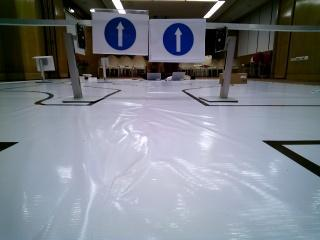straight: (93, 8, 147, 54), (150, 19, 206, 62)
